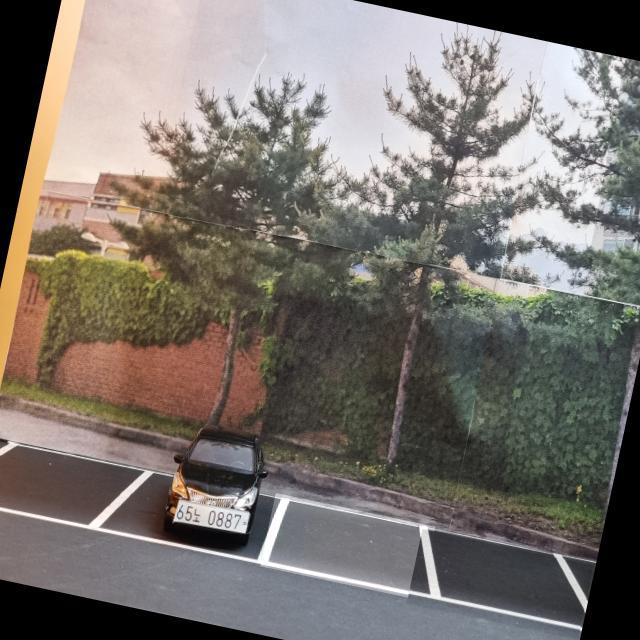empty: (406, 529, 593, 640), (260, 492, 434, 600), (0, 434, 141, 532)
occupied: (132, 408, 284, 564)
